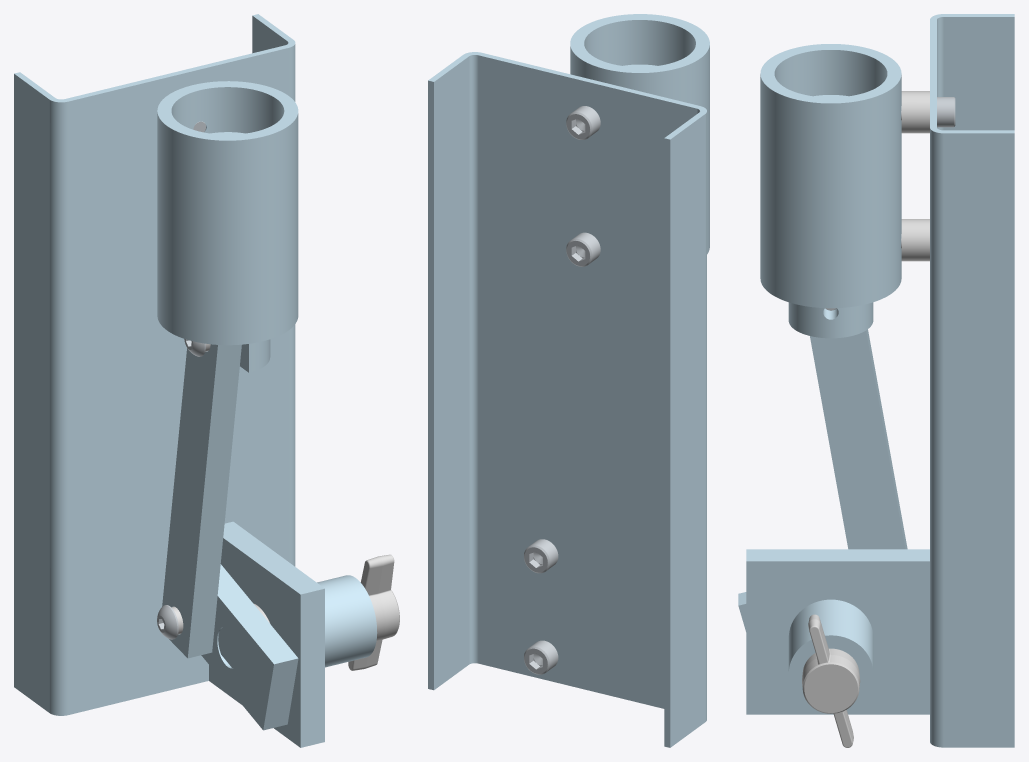
File: piston.gltf
3 views of the same model, side by side, from view 1: azimuth 30°, elevation 25°; view 2: azimuth 150°, elevation 25°; view 3: azimuth 270°, elevation 25° (orthographic).
Visible parts, largest first — view 1: Base, Piston Guide, Link, Post, Crank Block, Knob, Mount Knob, Piston; view 2: Base, Piston Guide, Socket head cap screw #8-32 x 0.4375 (×2), Socket head cap screw #8-32 x 0.25 (×2); view 3: Base, Piston Guide, Post, Link, Knob, Mount Knob, Piston, Short Spacer (×2), Socket head cap screw #8-32 x 0.4375.
Boxes of the visible parts, x1,y1,x2,y2 form: Base: (14,14,295,715); Piston Guide: (157,81,298,345); Link: (162,344,241,658); Post: (209,521,324,747); Crank Block: (201,564,298,730); Knob: (218,575,377,667); Mount Knob: (348,554,399,670); Piston: (210,132,270,372); Base: (428,52,706,747); Piston Guide: (570,14,709,254); Socket head cap screw #8-32 x 0.4375 (×2): (566,106,600,266); Socket head cap screw #8-32 x 0.25 (×2): (524,539,558,674); Base: (930,14,1014,747); Piston Guide: (760,44,901,308); Post: (746,549,929,714); Link: (810,329,907,549); Knob: (788,599,873,708); Mount Knob: (802,614,860,747); Piston: (788,95,873,338); Short Spacer (×2): (901,91,929,261); Socket head cap screw #8-32 x 0.4375: (901,97,955,127).
Size of the model in its own units: 0.073 by 0.1524 by 0.0621.
